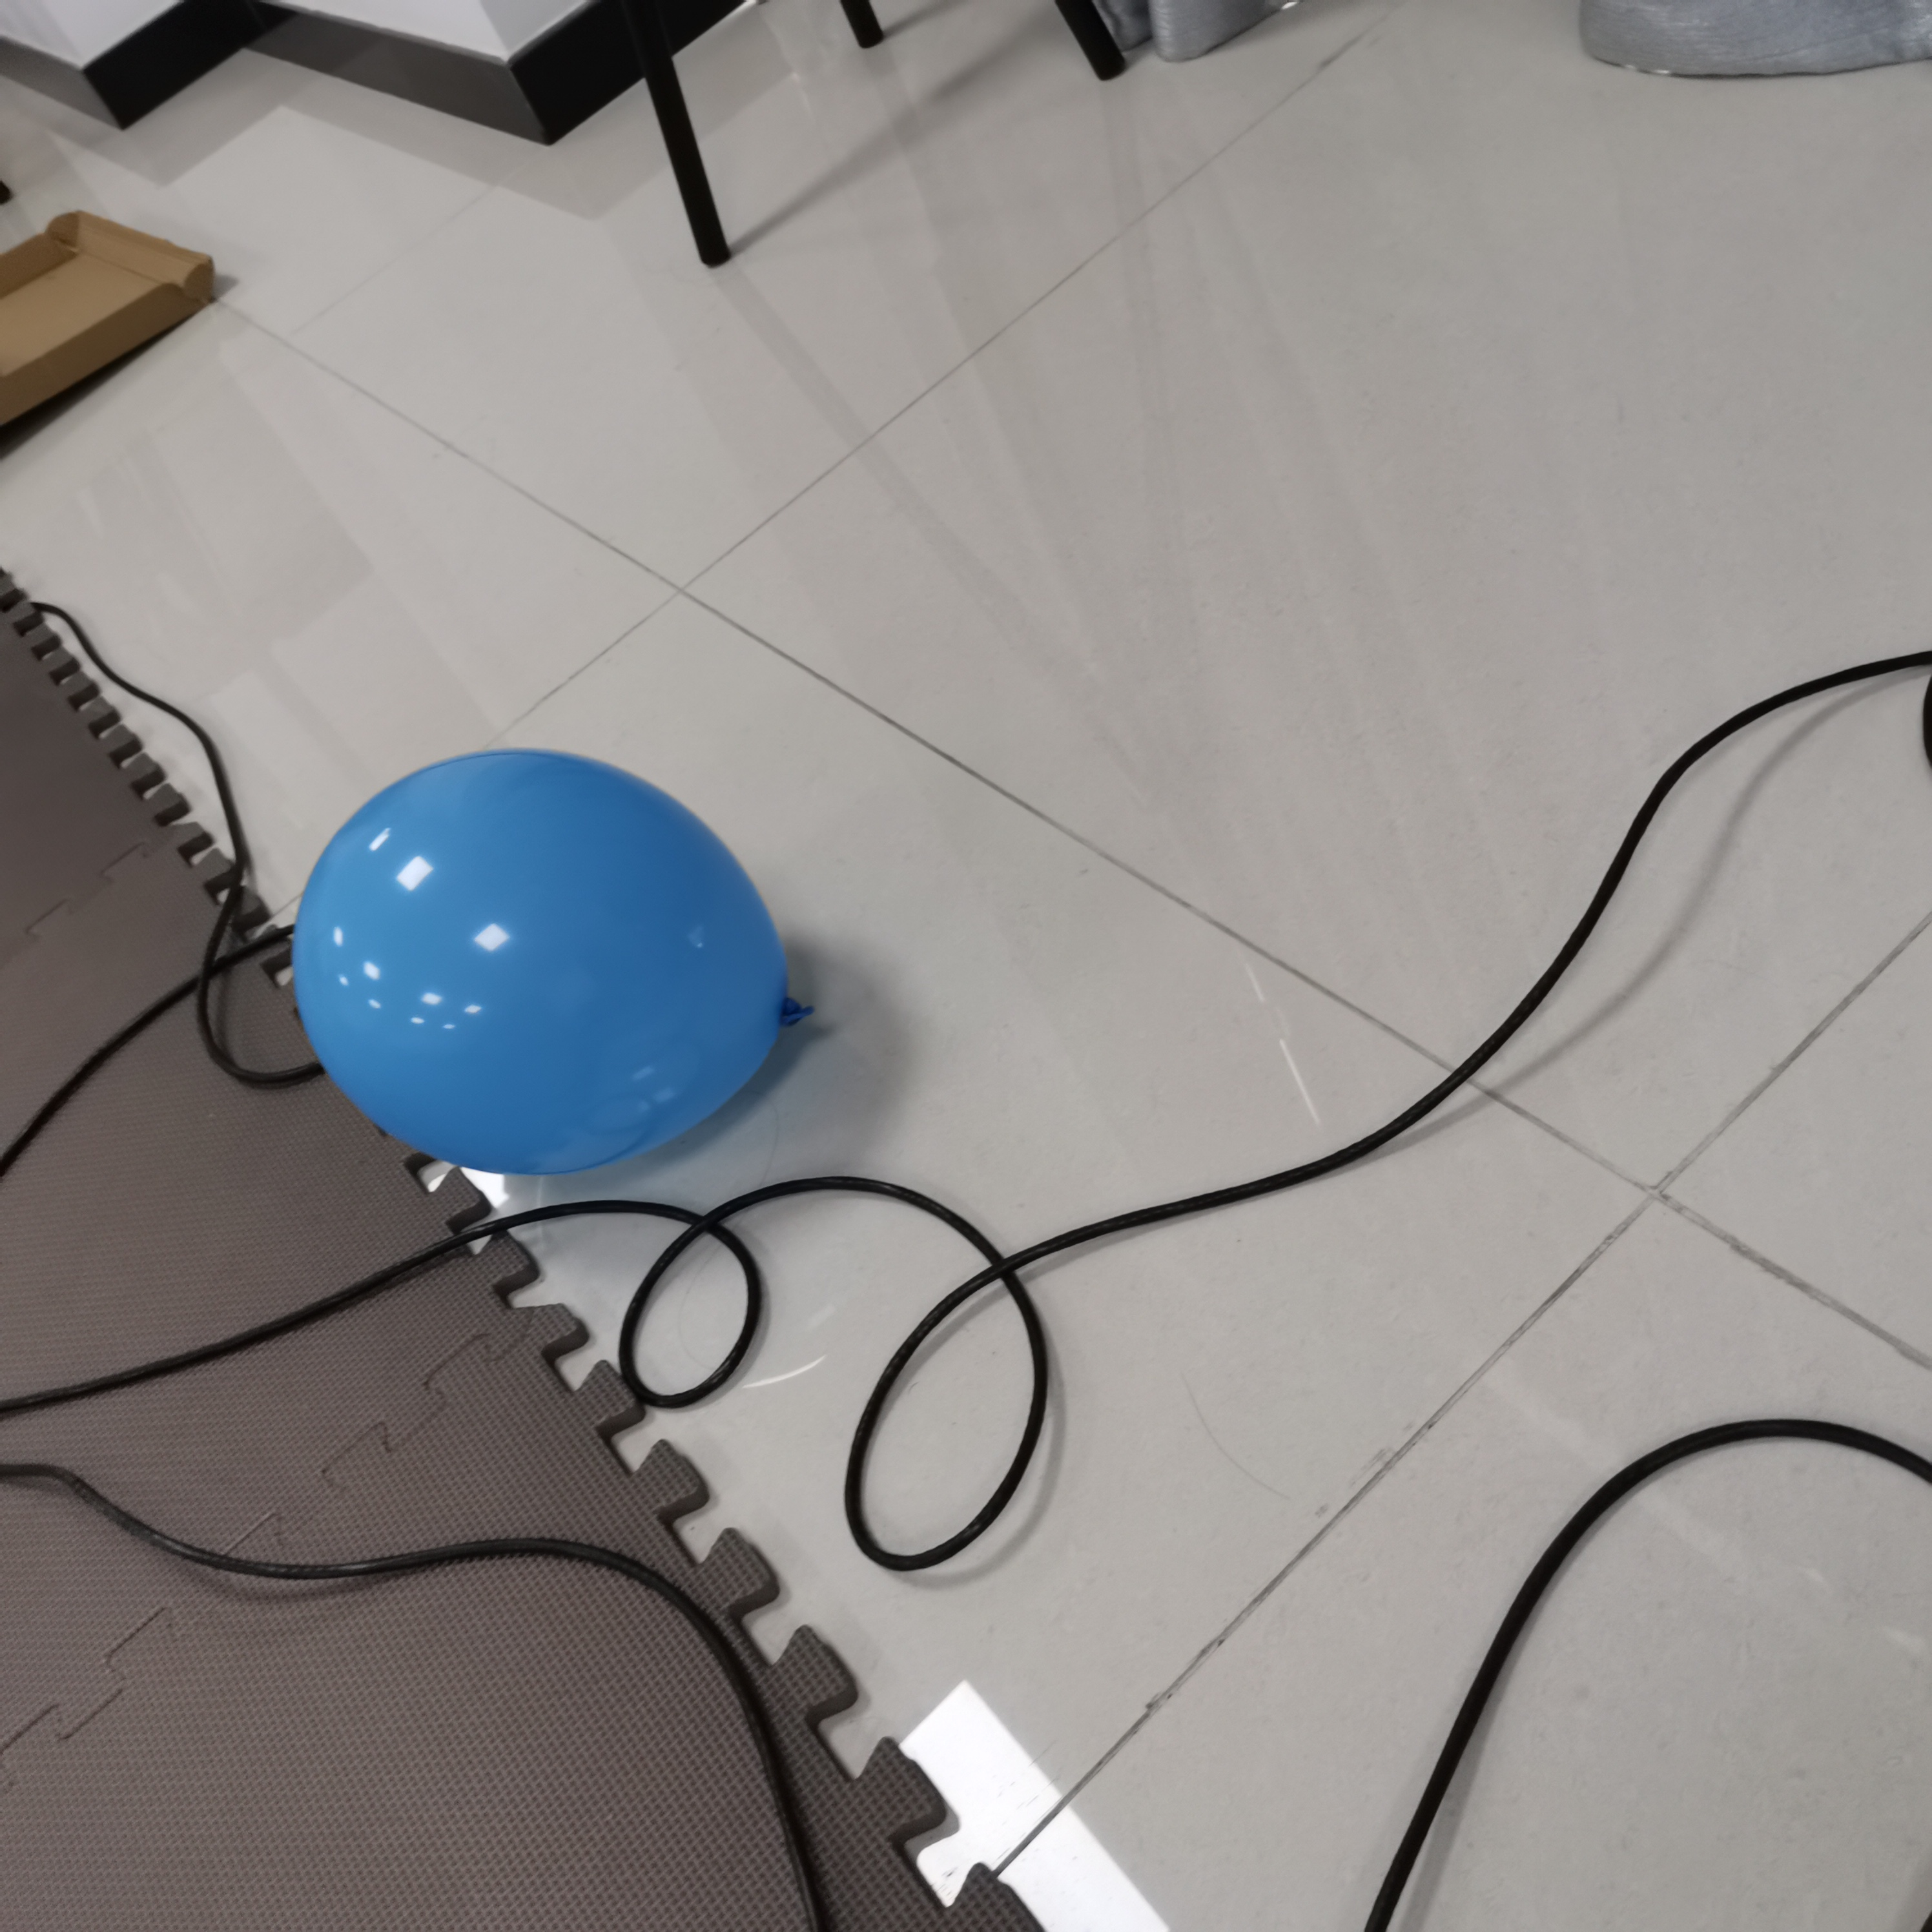balloon: (292, 747, 823, 1173)
